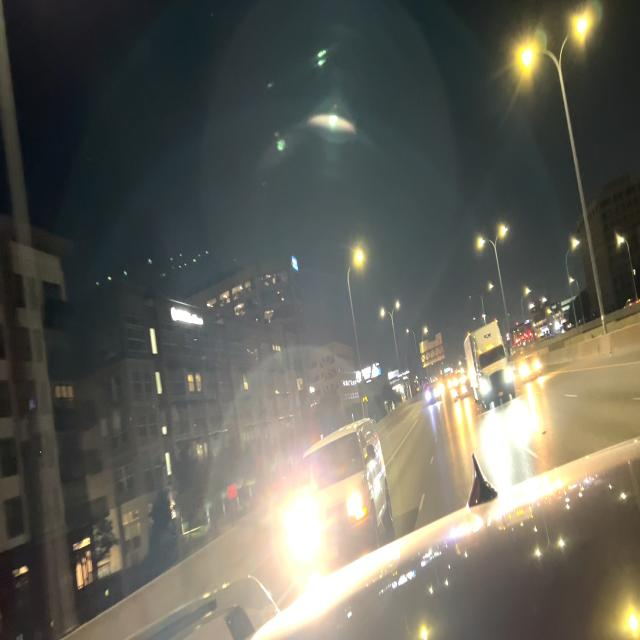back-of-sign: (420, 331, 448, 369)
